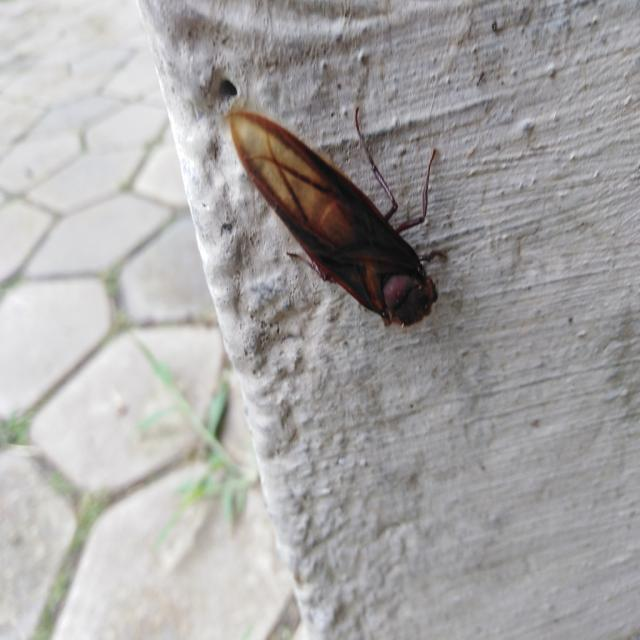Alive-Female-Alate: (220, 96, 448, 330)
